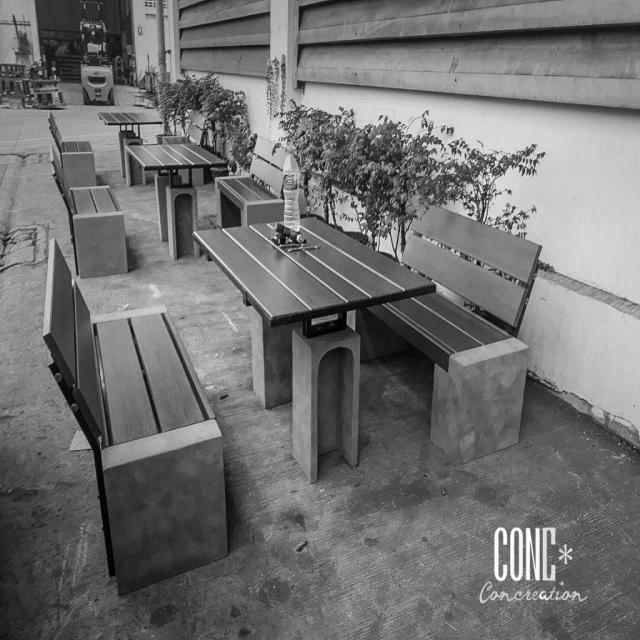table: (184, 202, 440, 366), (123, 134, 236, 184)
